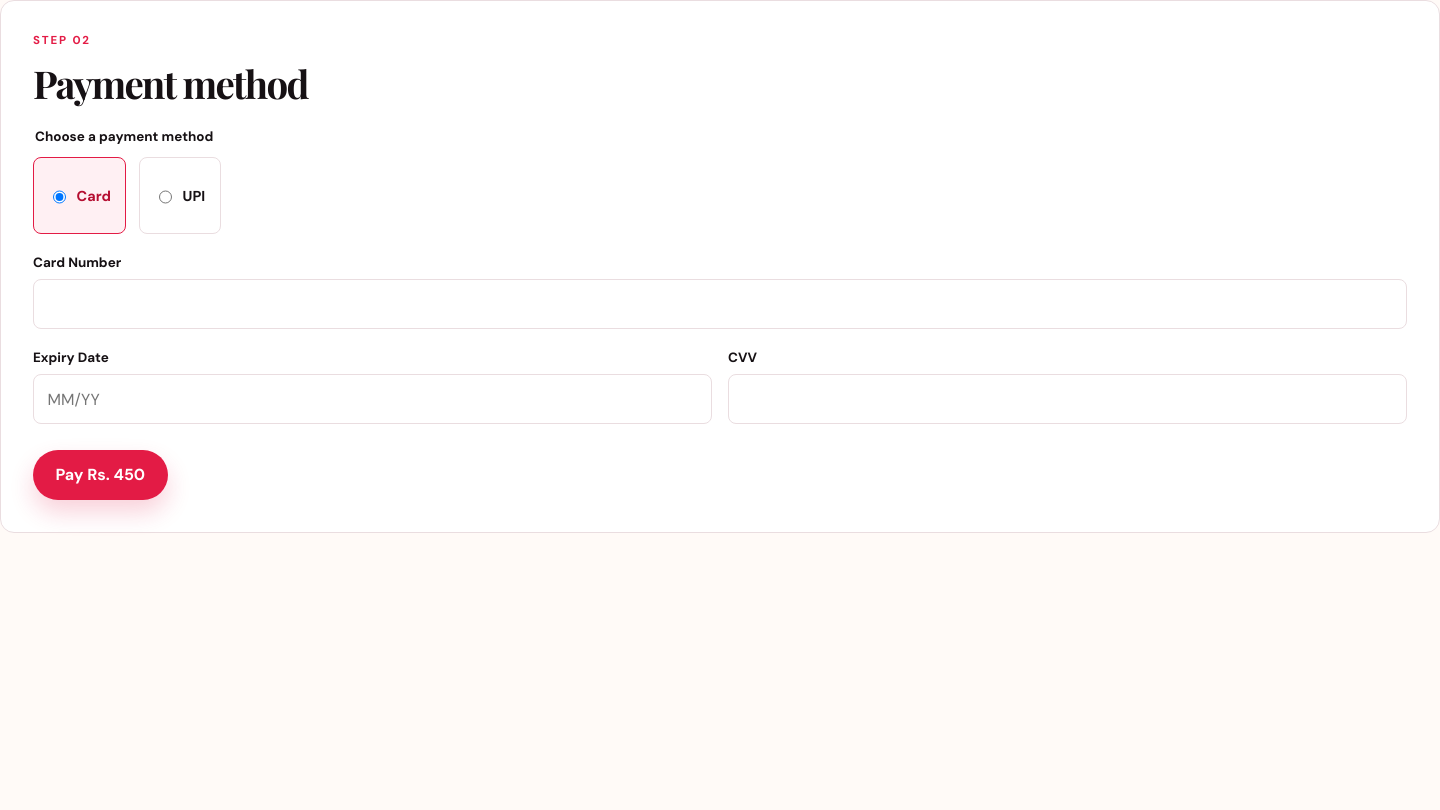
Test case: booking components › marks an invalid card Card Number with its specific validation error
This screenshot has width=1440, height=810.
Type "4242424242424242" into the field labelled "Card Number" at (720, 304), box [33,279,1407,329]
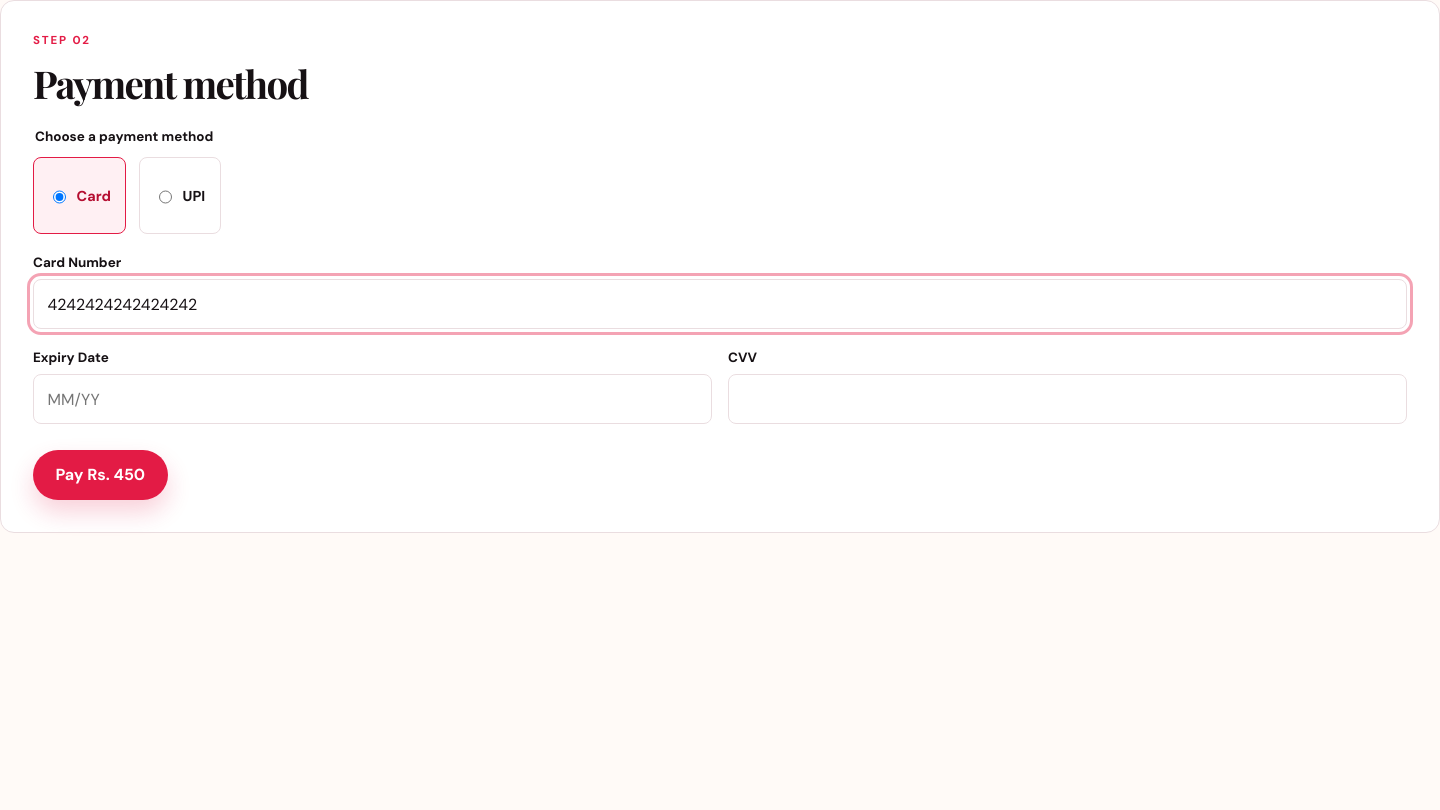
Type "12/30" into the field labelled "Expiry Date" at (372, 399), box [33,374,712,424]
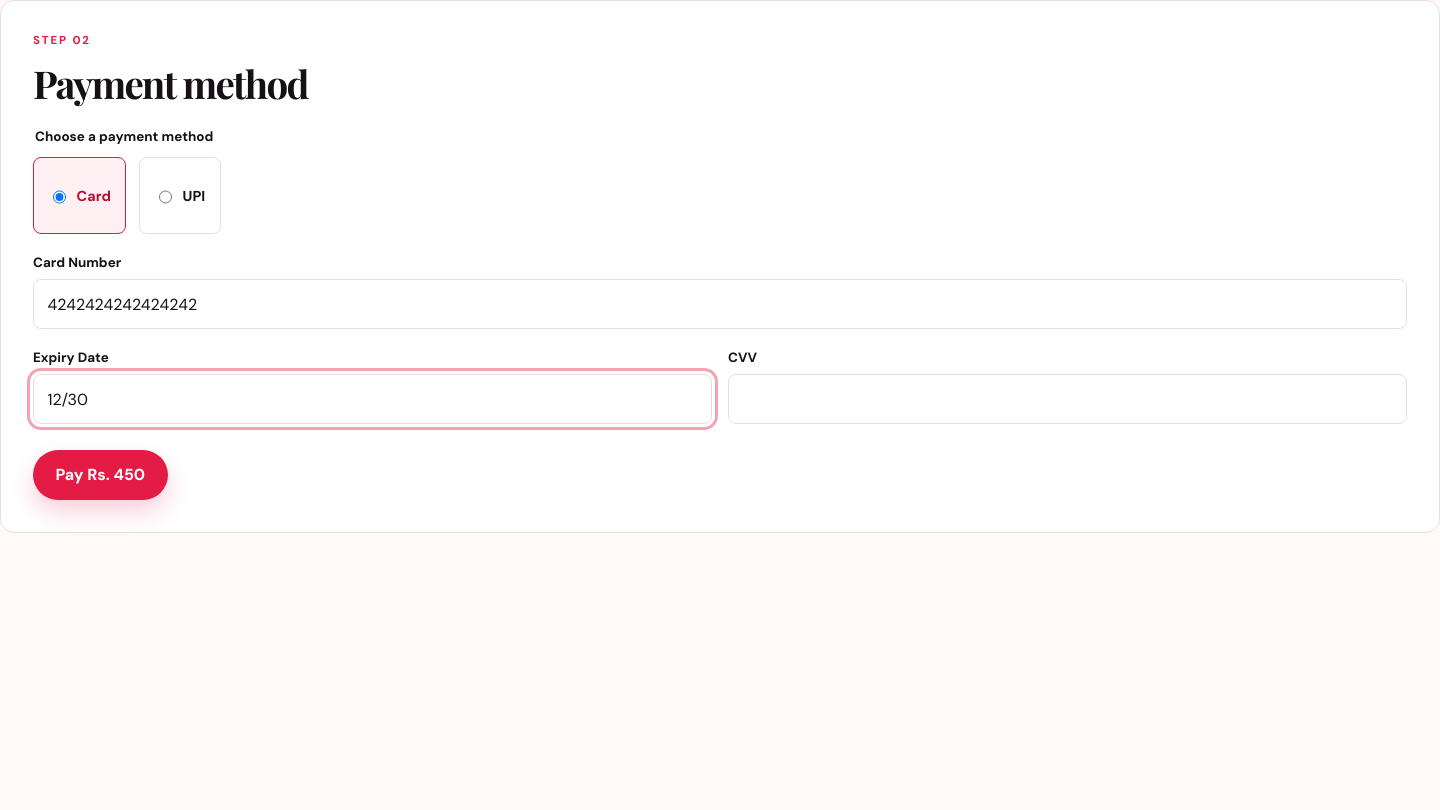
Type "123" into the field labelled "CVV" at (1068, 399), box [728,374,1407,424]
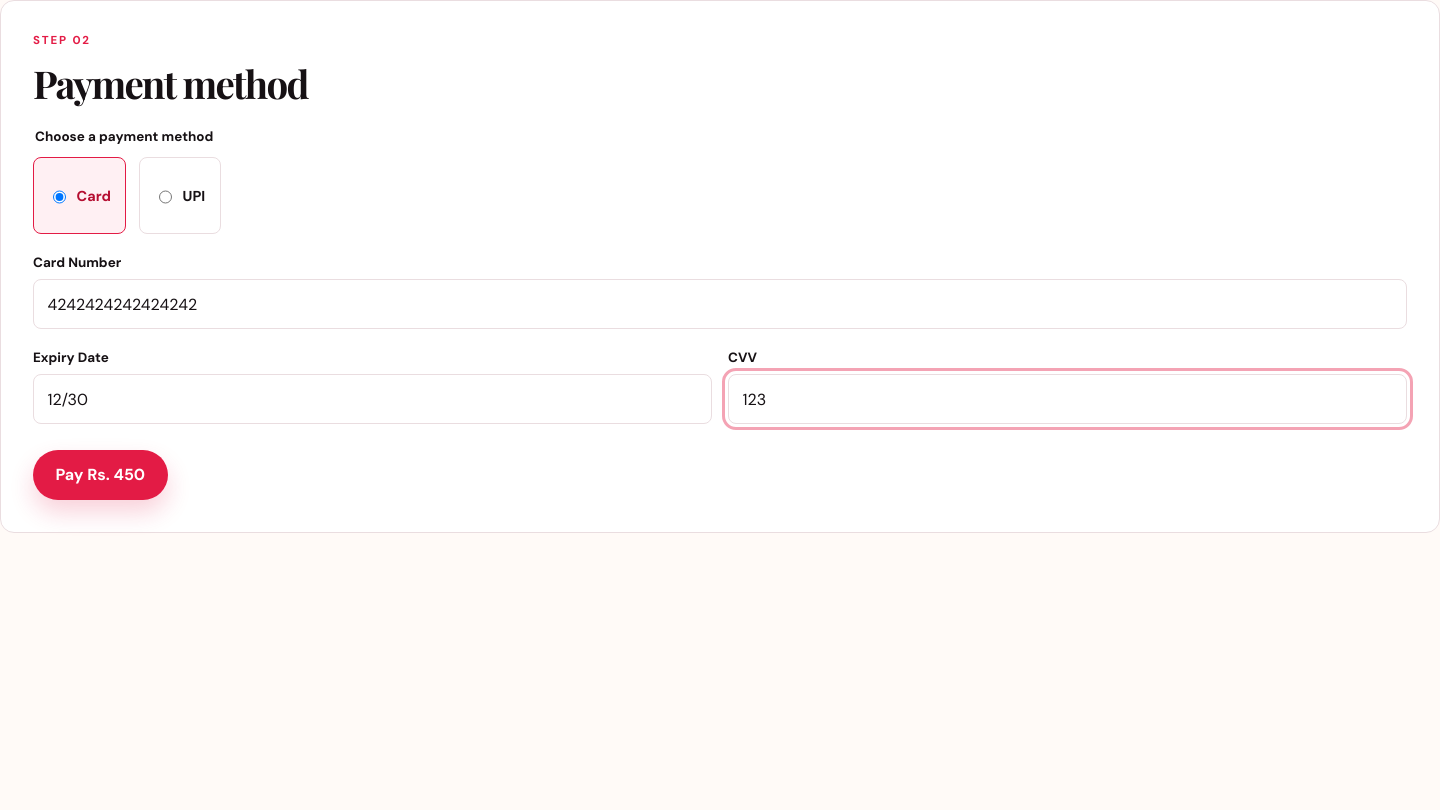
Replace the text in the field labelled "Card Number" with "123" at (720, 304), box [33,279,1407,329]
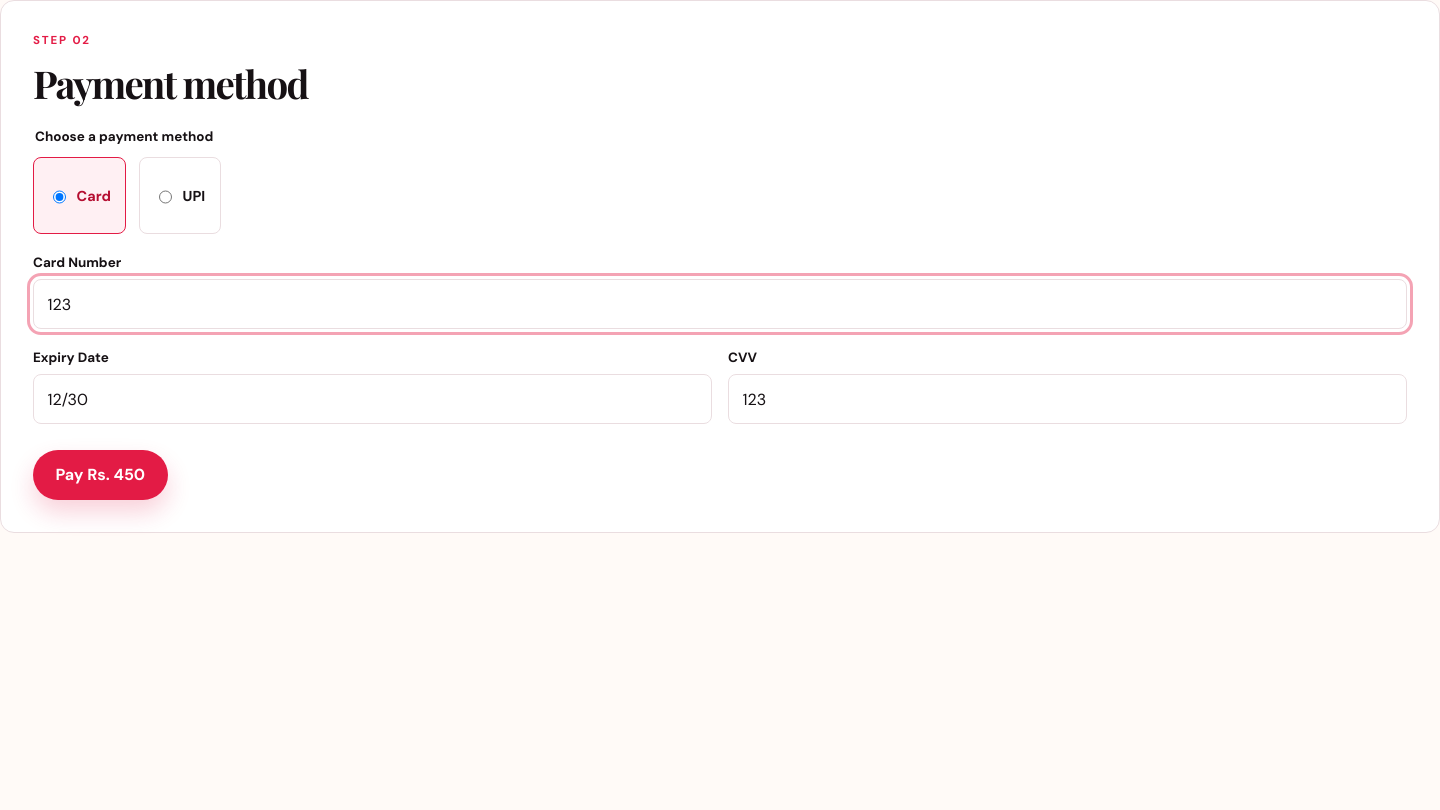
Click the button "Pay Rs. 450" at (100, 475), box [33,450,168,500]
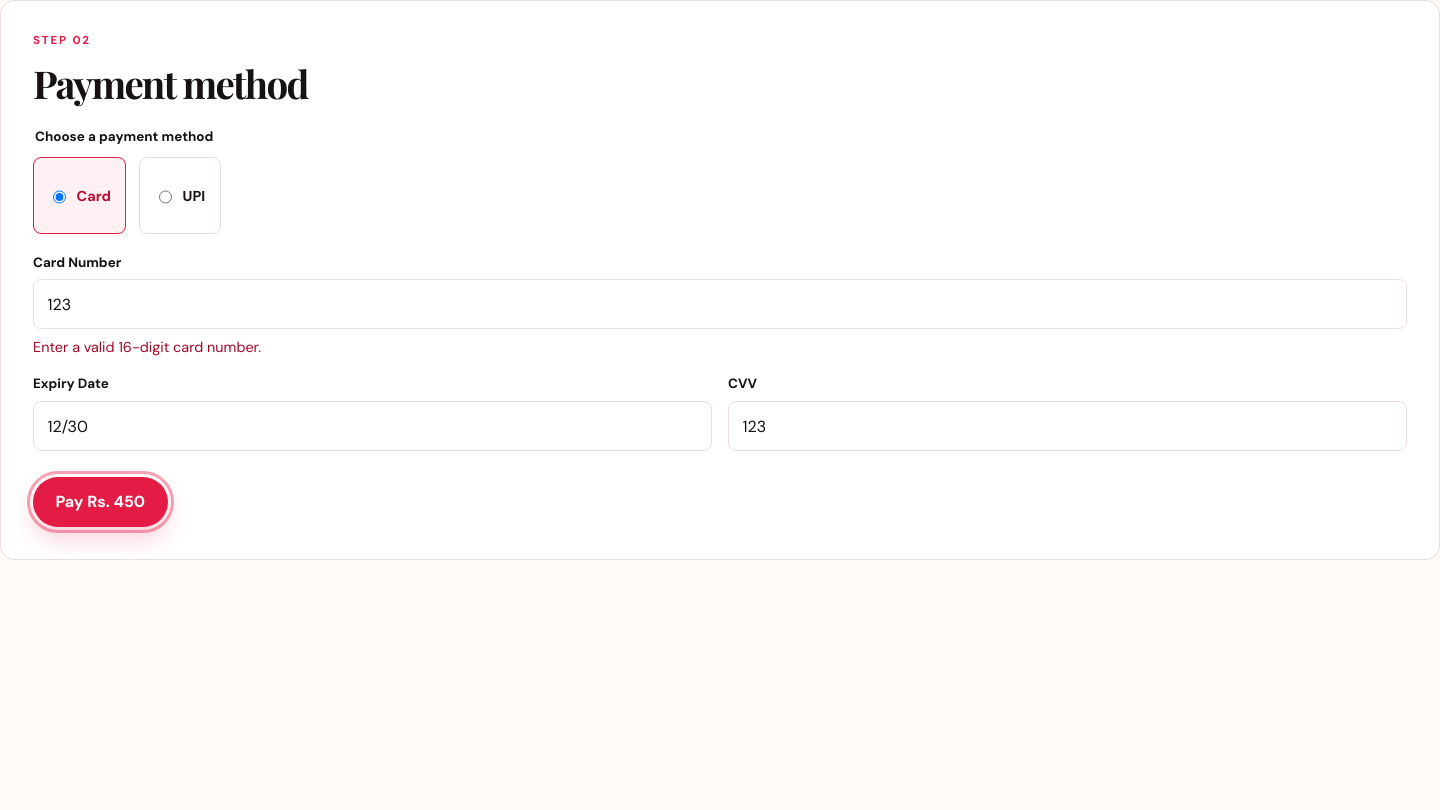
Expected: the message reads "Enter a valid 16-digit card number.", [33,338,261,356]
